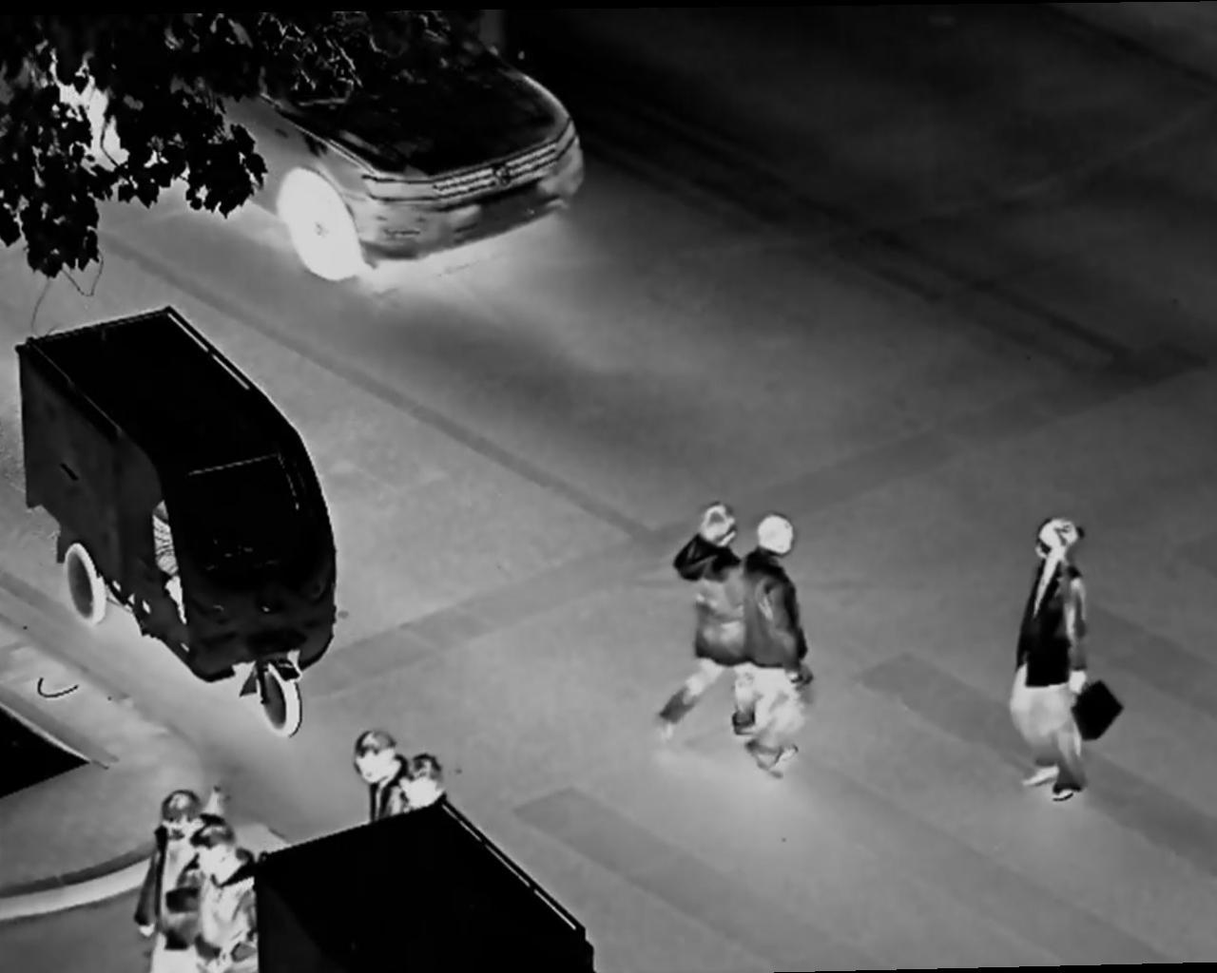person: (1003, 516, 1130, 821), (656, 504, 763, 744), (745, 514, 820, 787), (191, 823, 262, 973), (140, 784, 195, 963), (344, 725, 403, 836), (393, 753, 467, 830)
